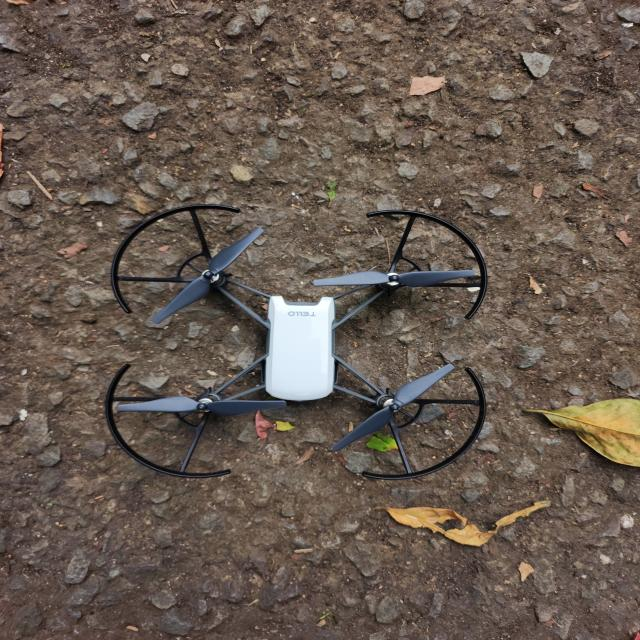drone: (95, 196, 495, 488)
